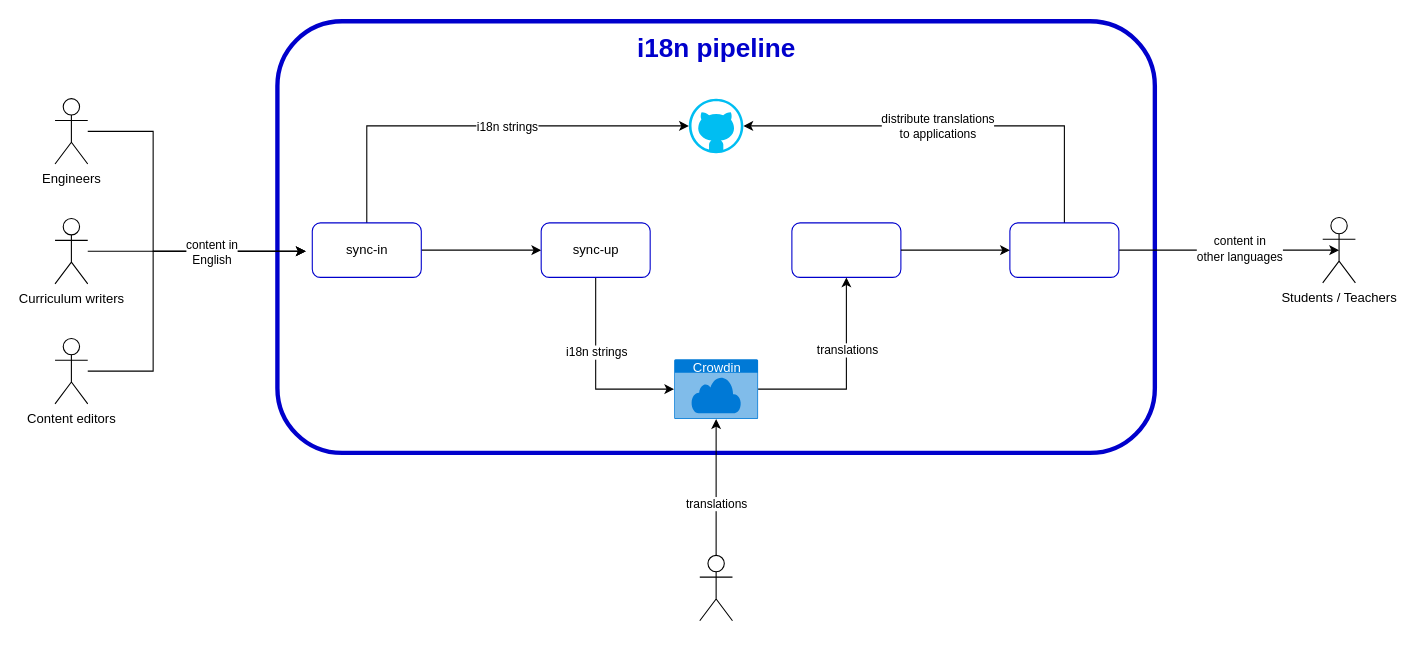
Some shapes in this 1416 by 662 pixel diagram are drawn without their labels. The shapes that lost their labels are listed below. From the top down, each one's centre as x and y in pixels, then its label:
point 715,125: Github
point 846,249: sync-down
point 1064,249: sync-out
point 715,587: Translators / Proofreaders
